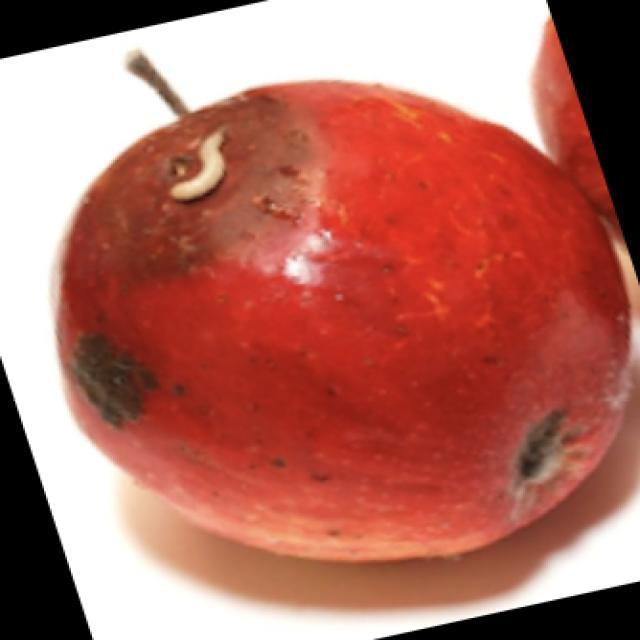Rotten: (68, 90, 617, 557)
